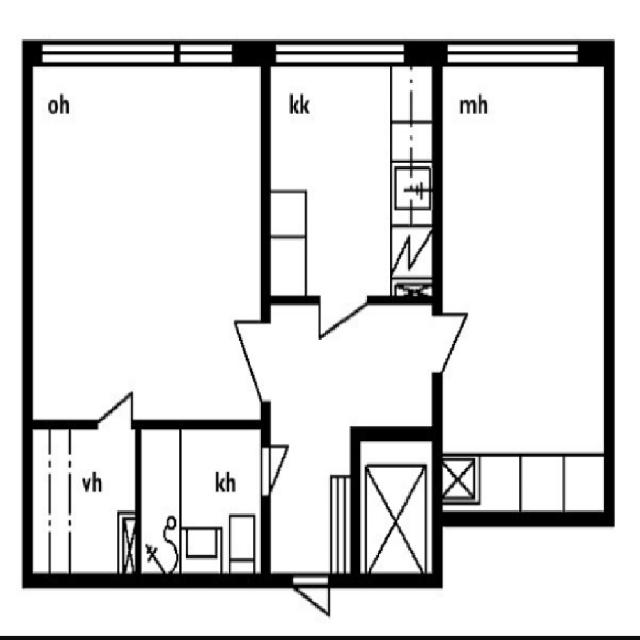door: (231, 316, 262, 400), (316, 293, 366, 338), (290, 572, 332, 622), (441, 309, 472, 375), (96, 385, 139, 432), (260, 440, 288, 496)
window: (274, 36, 408, 65), (447, 36, 580, 65), (41, 34, 176, 61), (176, 37, 237, 71)
zone: (30, 59, 262, 428), (444, 62, 608, 513), (264, 61, 437, 304), (138, 424, 262, 576), (29, 420, 139, 579), (361, 442, 431, 580), (392, 163, 435, 219)
